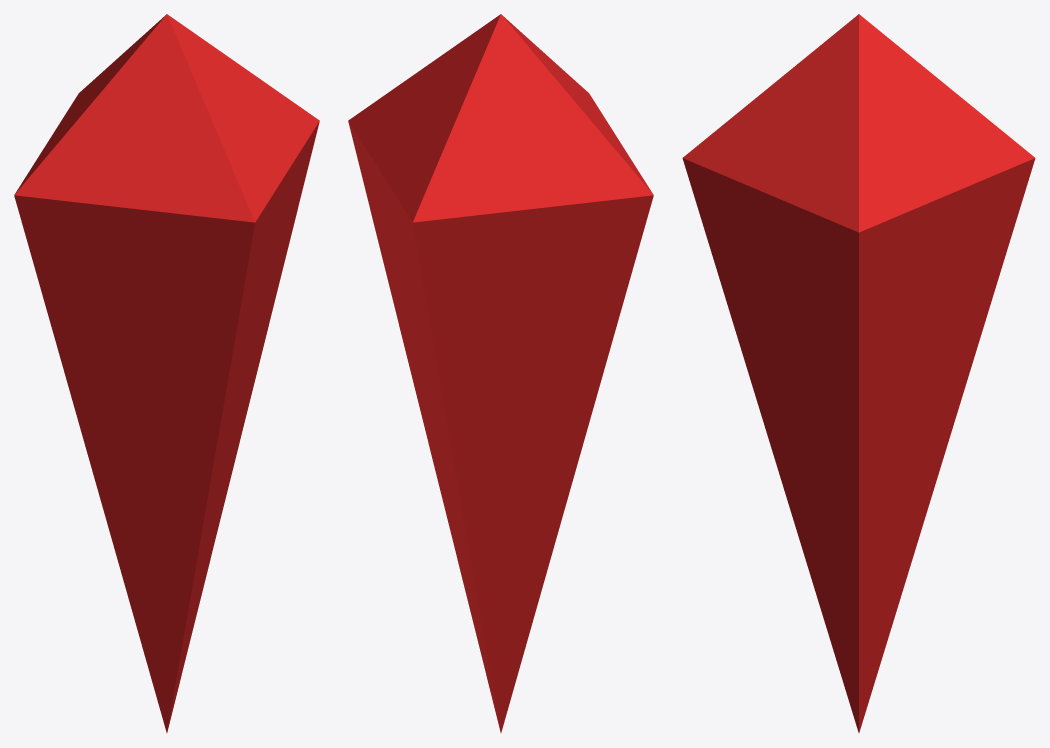
File: LocationAnchor.fbx
The picture shows the model from 3 angles, left to right: view 1: azimuth 30°, elevation 25°; view 2: azimuth 150°, elevation 25°; view 3: azimuth 270°, elevation 25°; orthographic projection.
Visible parts, largest first — view 1: Gem; view 2: Gem; view 3: Gem.
Part boxes in pixels (box(x1,y1,x2,y2)): Gem: box(14, 14, 319, 732); Gem: box(348, 14, 653, 732); Gem: box(682, 14, 1035, 732).
Size of the model in its own units: 20 by 45 by 20.
